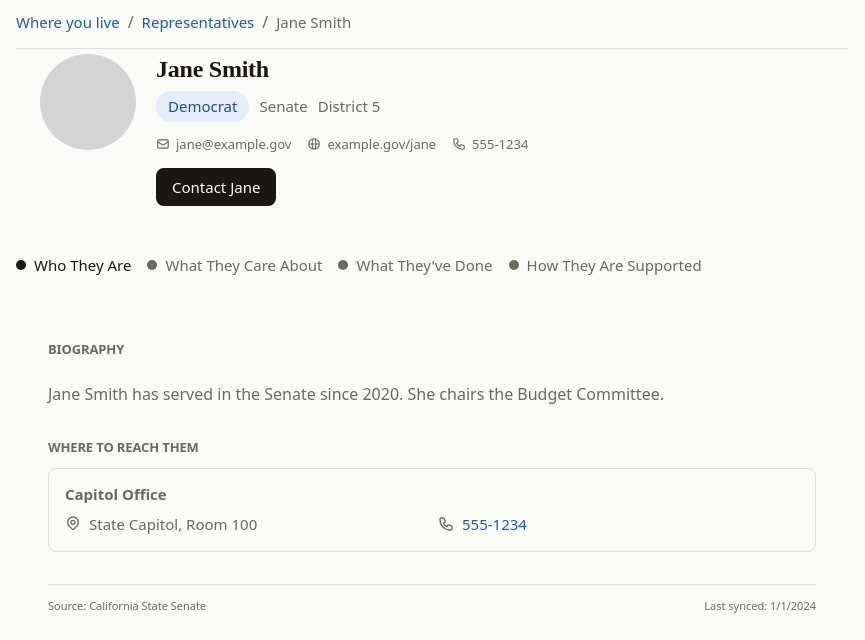
Test case: RepresentativeDetailPage › layer navigation › Back returns to Who They Are from later layers
# Navigate to layer 3 via nav dot
Click the button "What They've Done".
click(416, 265)  # box [338,254,493,277]
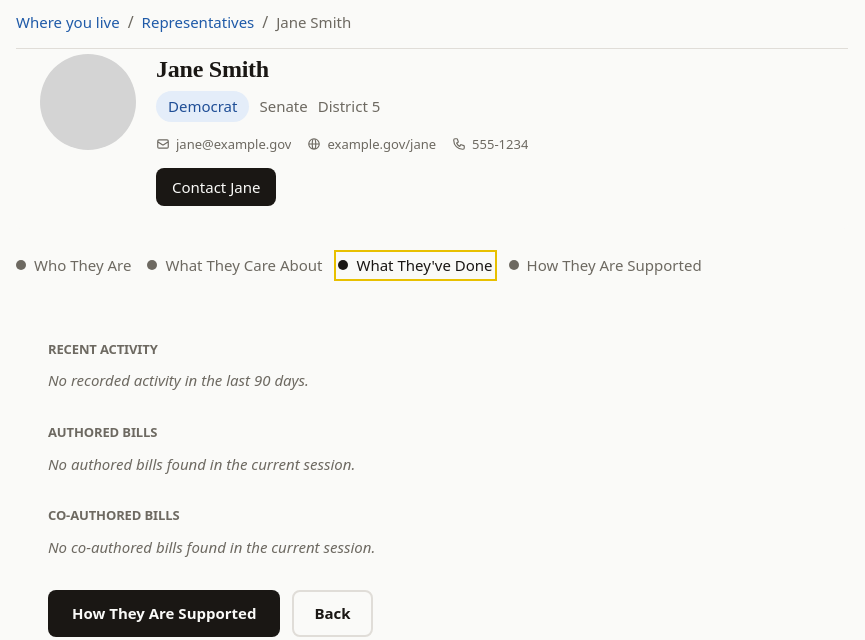
Check: the heading "Authored Bills" is shown, box [48,423,157,441]
# Click Back (secondary LayerButton)
Click the button "Back".
click(333, 614)  # box [292,590,373,637]
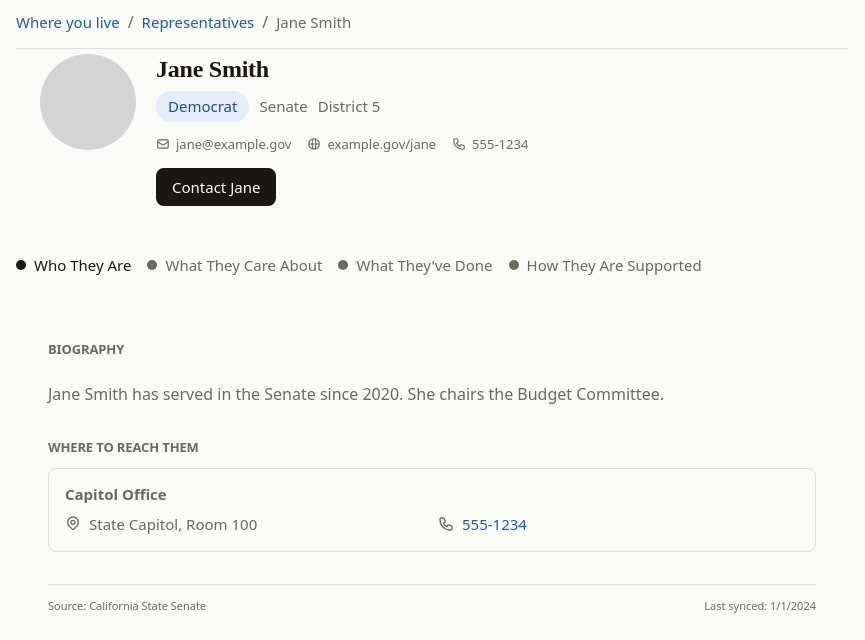
Check: the heading "Biography" is shown, box [48,341,124,358]
